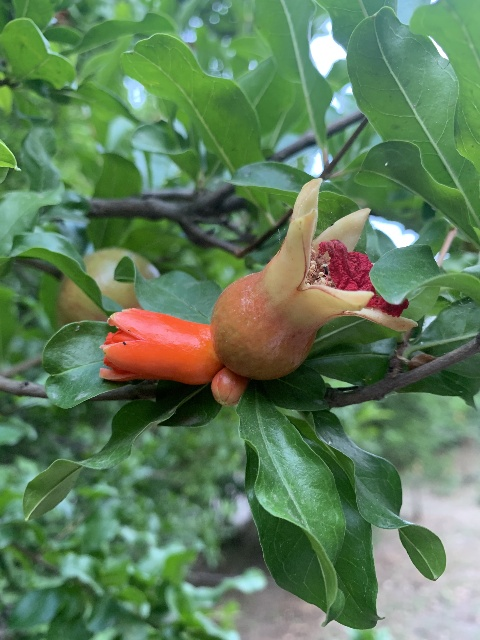bud: (211, 367, 249, 406)
early-fruit: (211, 178, 416, 382)
flower: (97, 307, 221, 386)
